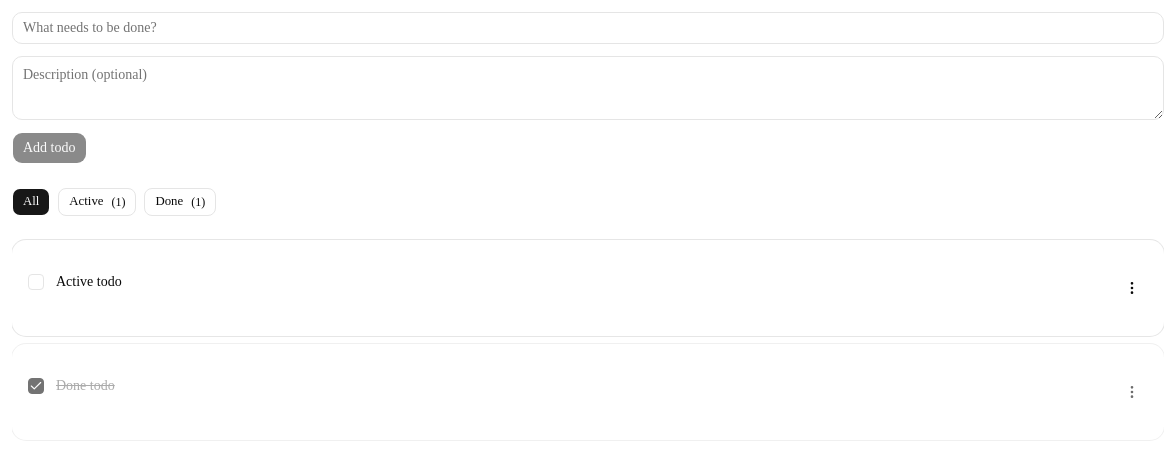
TodoList › filters by done
Expected: the text "Active todo" is shown, [56,274,122,289]
Click the button "Done (1)".
click(180, 202)  # box [144,188,216,216]
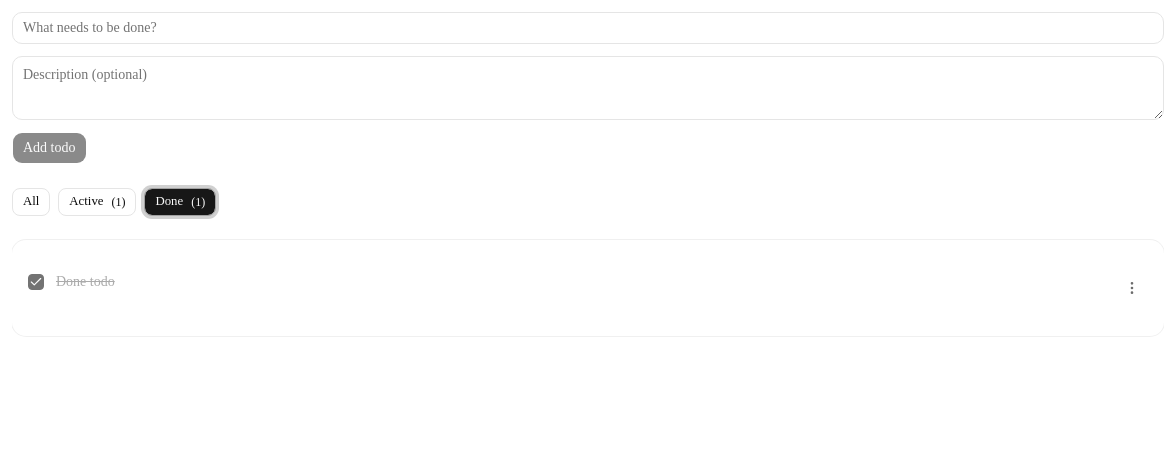
Expected: the text "Done todo" is shown, [56,274,115,289]
Expected: the text "Active todo" is gone
